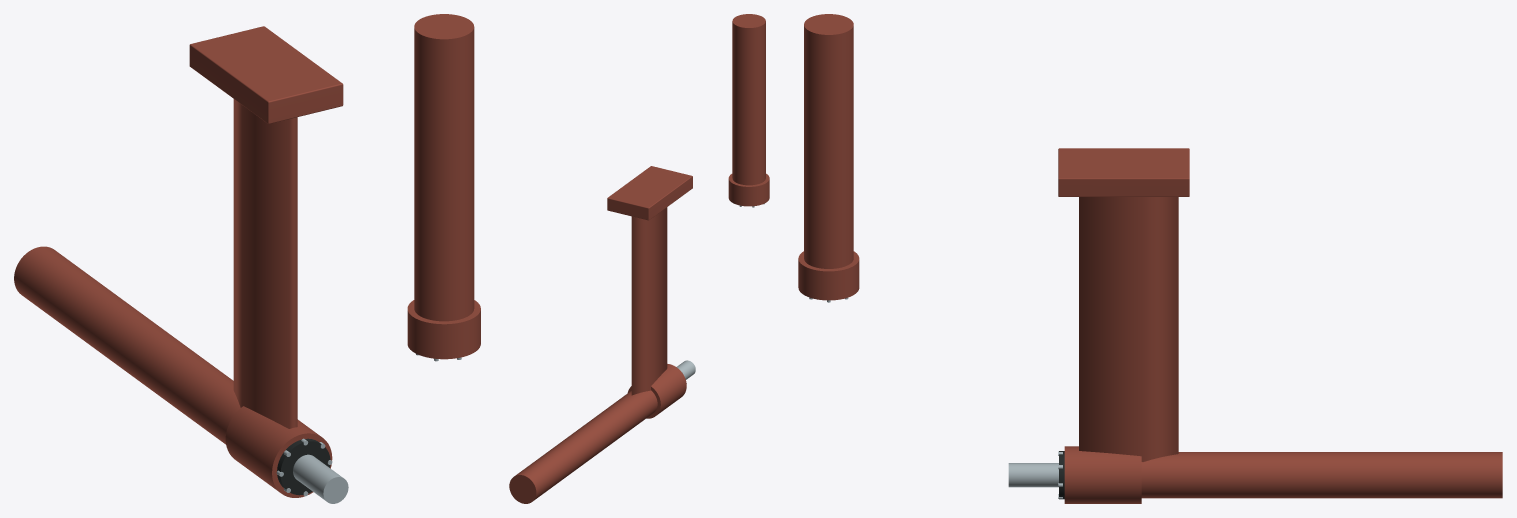
File: feeder_shaft_support.glb
The picture shows the model from 3 angles, left to right: view 1: azimuth 30°, elevation 25°; view 2: azimuth 150°, elevation 25°; view 3: azimuth 270°, elevation 25°; orthographic projection. The views are drawn at different scales.
Visible parts, largest first — view 1: Faired shaft hanger, Rudder trunk, Stern tube, Hanger hull pad, Aft bearing casing, Lower neck bearing, Propeller shaft, Bearing face seal; view 2: Faired shaft hanger, Rudder trunk, Stern tube, Hanger hull pad, Aft bearing casing, Lower neck bearing; view 3: Faired shaft hanger, Stern tube, Rudder trunk, Hanger hull pad, Aft bearing casing, Lower neck bearing, Propeller shaft.
Part boxes in pixels (<box>): Faired shaft hanger: <box>233,99,297,428</box>; Rudder trunk: <box>414,14,474,321</box>; Stern tube: <box>14,246,240,444</box>; Hanger hull pad: <box>189,26,343,123</box>; Aft bearing casing: <box>225,406,332,497</box>; Lower neck bearing: <box>407,300,480,359</box>; Propeller shaft: <box>293,454,348,503</box>; Bearing face seal: <box>277,438,330,495</box>; Faired shaft hanger: <box>631,207,667,395</box>; Rudder trunk: <box>732,14,765,185</box>; Stern tube: <box>509,390,657,503</box>; Hanger hull pad: <box>607,166,692,220</box>; Aft bearing casing: <box>627,364,686,418</box>; Lower neck bearing: <box>728,173,769,206</box>; Faired shaft hanger: <box>1079,197,1178,461</box>; Stern tube: <box>1141,452,1502,498</box>; Rudder trunk: <box>804,14,853,268</box>; Hanger hull pad: <box>1058,148,1189,196</box>; Aft bearing casing: <box>1064,446,1141,503</box>; Lower neck bearing: <box>798,251,859,300</box>; Propeller shaft: <box>1008,463,1058,487</box>.
Size of the model in its own units: 0.6429 by 4.69 by 6.27.
